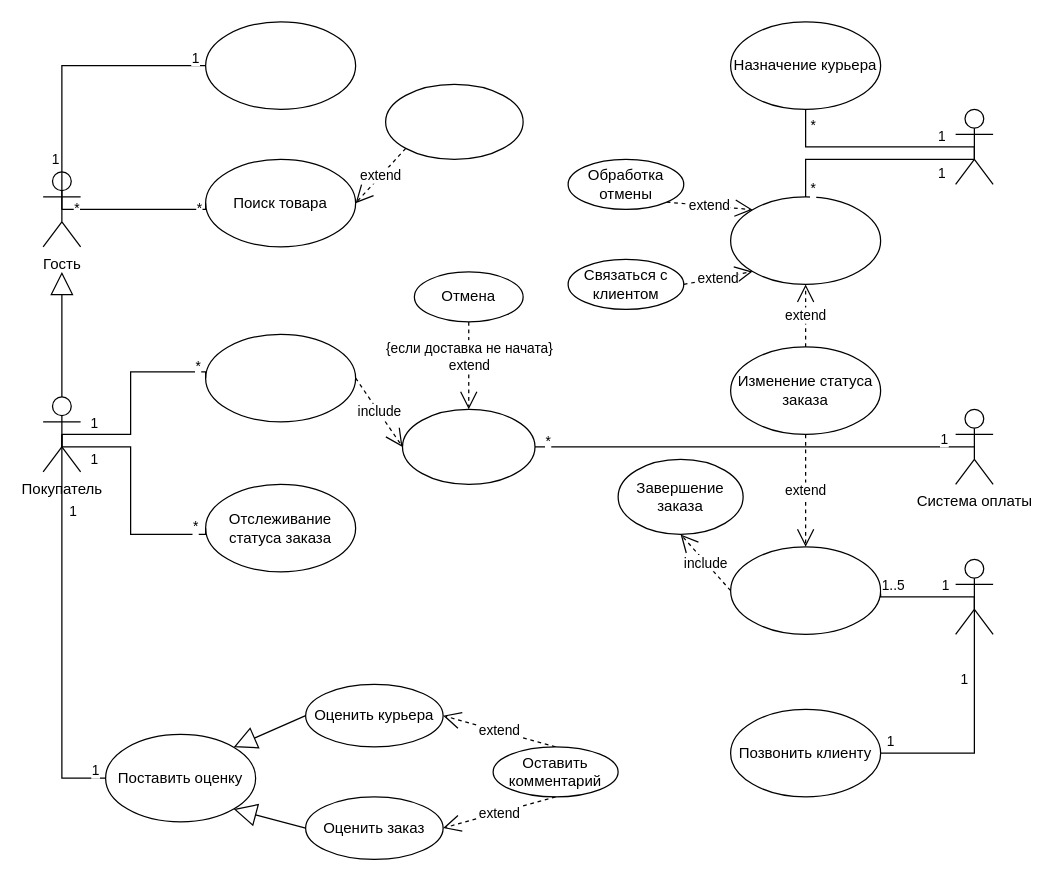
Image size: 1053x881. Some labels were removed from this diagram. The centre of each missing label's shape, as x and y in pixels:
"Администратор" belongs at [973,146].
"Добавление в корзину" belongs at [453,121].
"Доставка" belongs at [805,590].
"Курьер" belongs at [973,596].
"Оплата" belongs at [468,446].
"Оформление заказа" belongs at [280,377].
"Регистрация" belongs at [280,65].
"Управление заказом" belongs at [805,240].
